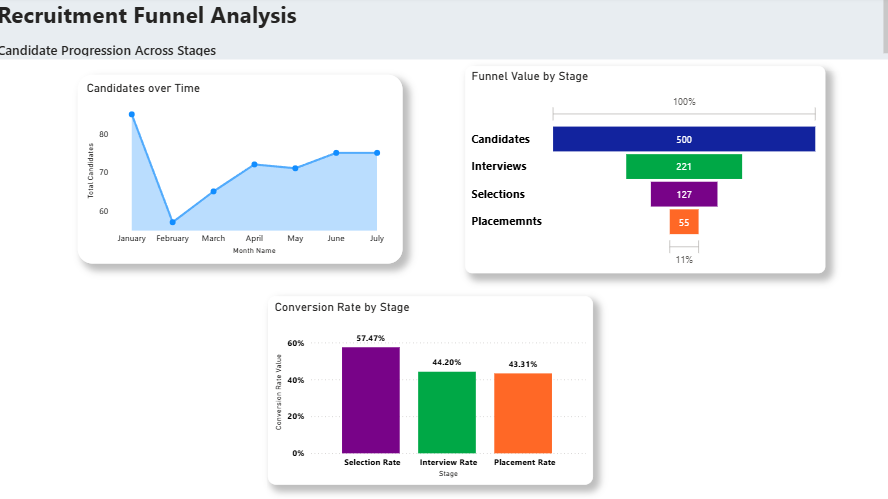

The dashboard page shown, as its layout file describes it:
{"tool":"powerbi","page":{"name":"Page 2","canvas":[1280,720],"ordinal":1},"visuals":[{"type":"areaChart","title":"Candidates over Time","fields":{"Category":["DateTable.Month Name"],"Y":["Candidates.Total Candidates"]},"box":[119.2,112.1,462.7,268.7],"z":0},{"type":"funnel","fields":{"Category":["RecruitmentStages.Stage"],"Y":["RecruitmentStages.Funnel Value"]},"box":[671,99.7,512.6,295.4],"z":2000},{"type":"textbox","box":[0,0,1279.7,90.8],"z":4000},{"type":"clusteredColumnChart","title":"Conversion Rate by Stage","fields":{"Category":["Conversion Stage.Stage"],"Y":["Candidates.Conversion Rate Value"]},"box":[389.8,427.1,463,269],"z":4001}]}

Visuals, with their boxes in screenshot pixels (x1, y1, x2, y2), scaled from the page's 1280x720 canvas onto the 888x499 screenshot:
"Candidates over Time" areaChart: 83/78/404/264
funnel - RecruitmentStages.Stage x RecruitmentStages.Funnel Value: 466/69/821/274
textbox: 0/0/887/63
"Conversion Rate by Stage" clusteredColumnChart: 270/296/592/482
